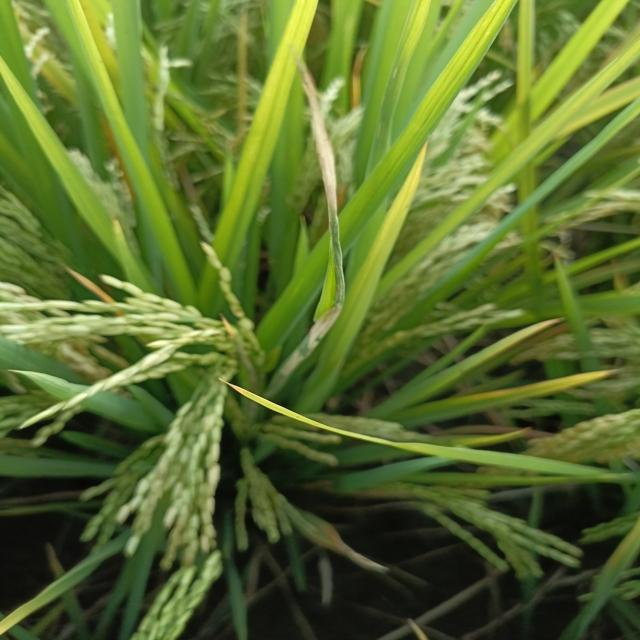brown plant hopper: (272, 51, 388, 398)
